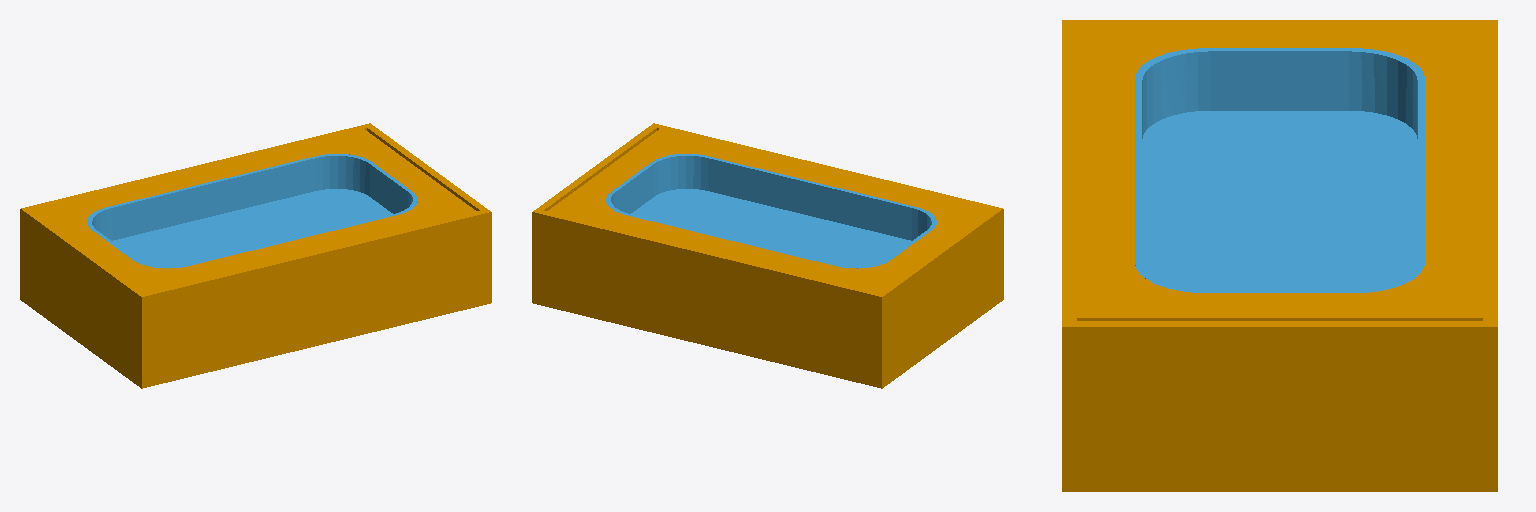
The robot description file, URDF, robot "mouse_cavity":
<?xml version="1.0"?>
<robot name="mouse_cavity">

  <link name="mouse_cavity_out">
    <visual>
      <origin xyz="0.0 0.0 0.0"/>
      <geometry>
        <mesh filename="../../meshes/objects/mouse_cavity_out.obj" scale="0.001 0.001 0.001"/>
      </geometry>
    </visual>
  </link>
  <link name="mouse_cavity_slot">
    <visual>
      <origin xyz="0.0 0.0 0.0"/>
      <geometry>
        <mesh filename="../../meshes/objects/mouse_cavity_slot.obj" scale="0.001 0.001 0.001"/>
      </geometry>
    </visual>
  </link>
  <joint name="j1" type="fixed">
    <parent link="mouse_cavity_out"/>
    <child link="mouse_cavity_slot"/>
  </joint>
  
</robot>

--- Facts derived from the render (not from the file) ---
The picture shows the robot from 3 angles, left to right: view 1: azimuth 30°, elevation 25°; view 2: azimuth 150°, elevation 25°; view 3: azimuth 270°, elevation 25°; orthographic projection.
Robot: mouse_cavity — 2 links, 1 joints (1 fixed); root link mouse_cavity_out; default pose: every joint at zero.
Links seen in each view (by area): view 1: mouse_cavity_out, mouse_cavity_slot; view 2: mouse_cavity_out, mouse_cavity_slot; view 3: mouse_cavity_out, mouse_cavity_slot.
Boxes of the visible links, bbox=[...] form: mouse_cavity_out: bbox=[20, 123, 491, 388]; mouse_cavity_slot: bbox=[87, 154, 417, 268]; mouse_cavity_out: bbox=[532, 123, 1003, 388]; mouse_cavity_slot: bbox=[606, 154, 936, 268]; mouse_cavity_out: bbox=[1062, 20, 1497, 491]; mouse_cavity_slot: bbox=[1135, 48, 1424, 292].
Size in the robot's own frame: 0.1 by 0.06 by 0.025 metres.
Meshes: 2 distinct files referenced, 2 mesh visuals loaded (2 OBJ).